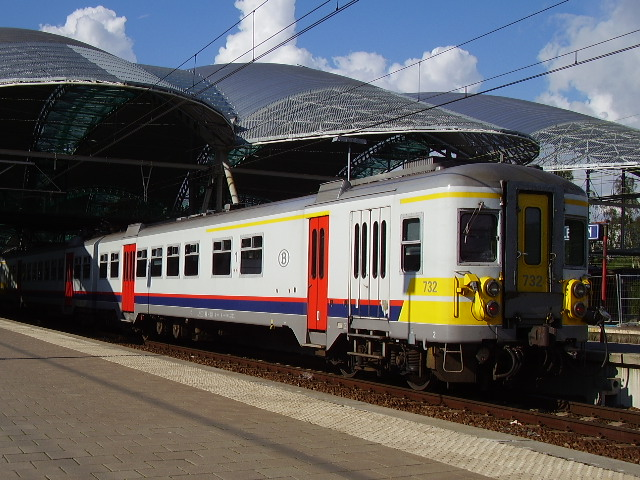train: (19, 164, 601, 379)
